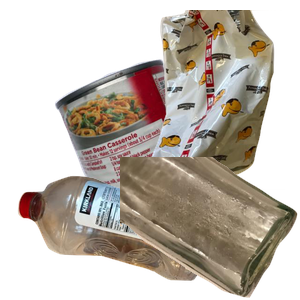glass: (120, 157, 300, 300)
metal: (52, 57, 260, 237)
plastic: (15, 173, 222, 300)
trash: (127, 10, 300, 190)
